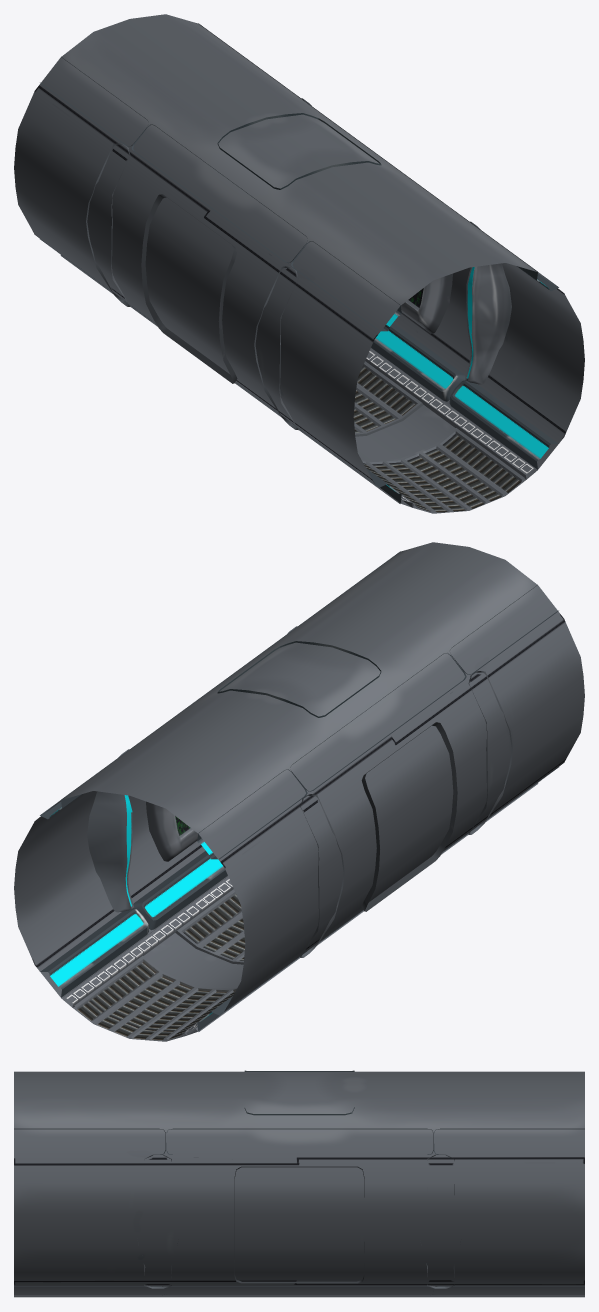
File: cyber_biome.dae
3 renders of one model, top to bottom at view 1: azimuth 30°, elevation 25°; view 2: azimuth 150°, elevation 25°; view 3: azimuth 270°, elevation 25°, orthographic. The views are drawn at different scales.
Parts seen in each view (by area): view 1: biom; view 2: biom; view 3: biom.
Part boxes in pixels (x1,y1,x2,y2): biom: (14, 14, 584, 513); biom: (14, 542, 584, 1041); biom: (14, 1070, 584, 1297).
Bounding box in the file's own units: 6.34 × 15.85 × 6.32.
1 material, 1 textured.
